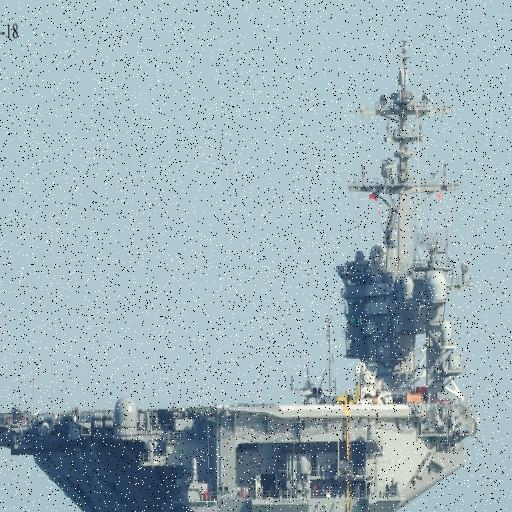Portanaves: (1, 32, 486, 512)
